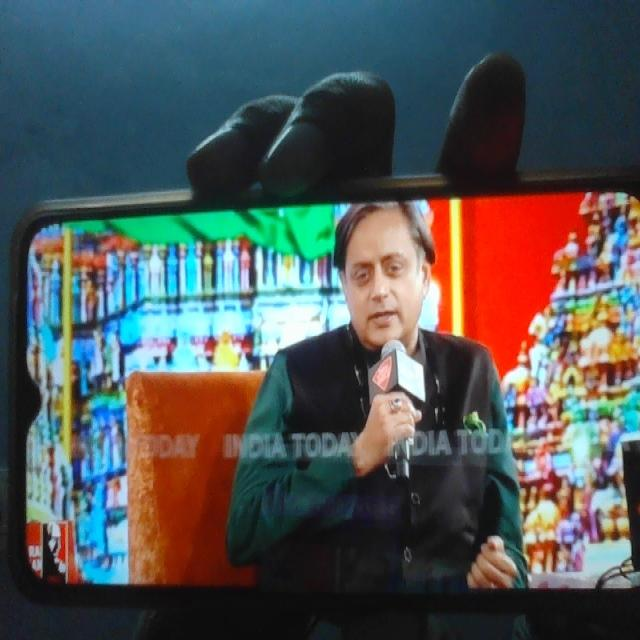fake: (331, 165, 442, 376)
